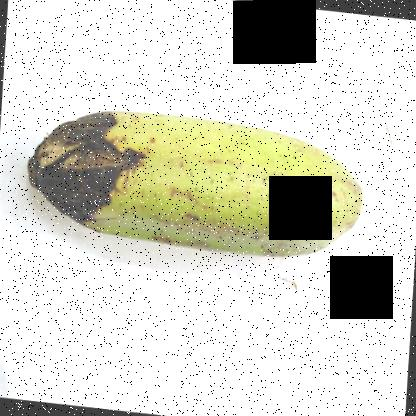rotten: (7, 77, 156, 252)
